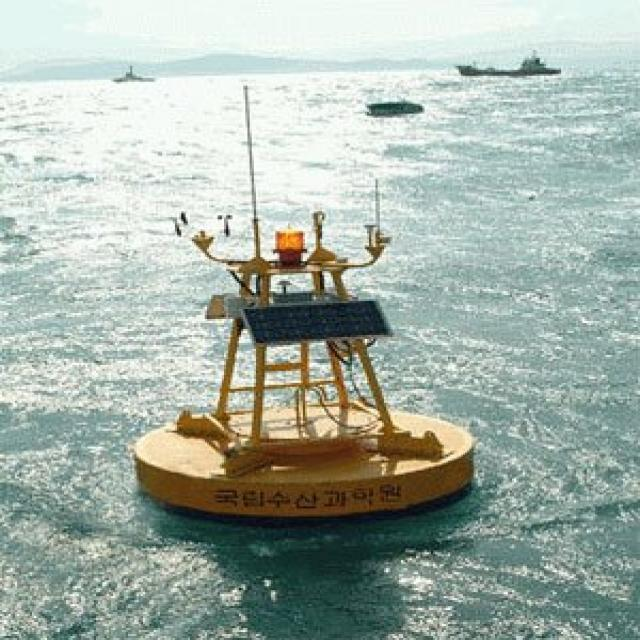2.5 sepcial mark: (143, 83, 506, 535)
